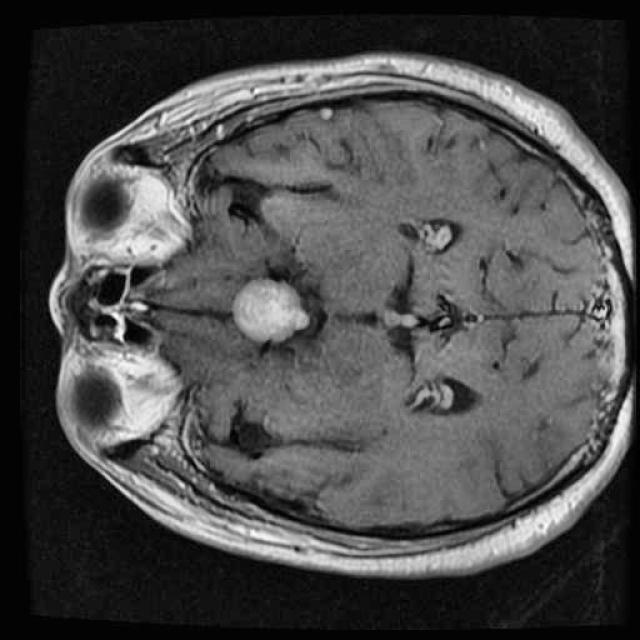Tumor: (228, 260, 320, 355)
